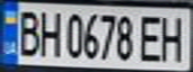0: (63, 9, 84, 58)
6: (81, 10, 100, 60)
7: (97, 10, 118, 61)
8: (115, 11, 139, 62)
B: (12, 6, 42, 57)
E: (136, 11, 166, 63)
H: (157, 11, 190, 63), (36, 7, 63, 58)
